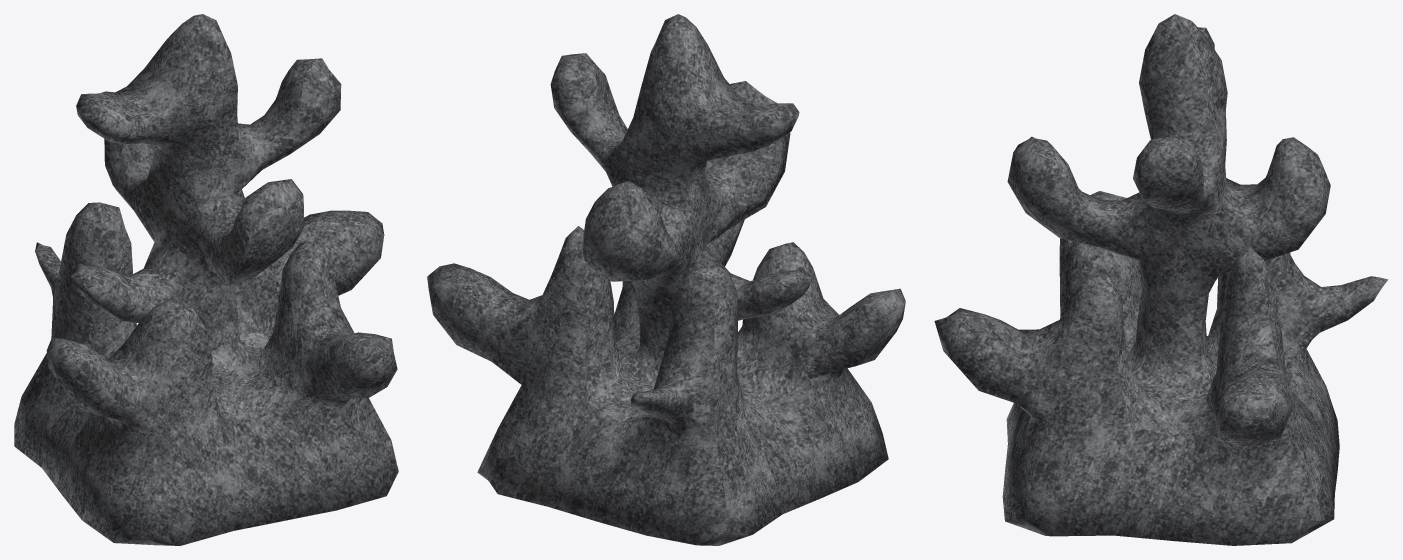
Rendered from Black_Smoker_3_v1.fbx.
The picture shows the model from 3 angles, left to right: view 1: azimuth 30°, elevation 25°; view 2: azimuth 150°, elevation 25°; view 3: azimuth 270°, elevation 25°; orthographic projection. The views are drawn at different scales.
Parts seen in each view (by area): view 1: Cube; view 2: Cube; view 3: Cube.
Boxes of the visible parts, box(x1,y1,x2,y2) form: Cube: box(14, 14, 398, 545); Cube: box(427, 14, 905, 545); Cube: box(934, 14, 1388, 545).
Bounding box in the file's own units: 4.12 × 4.51 × 3.92.
Materials: 1 (1 with a texture image).
